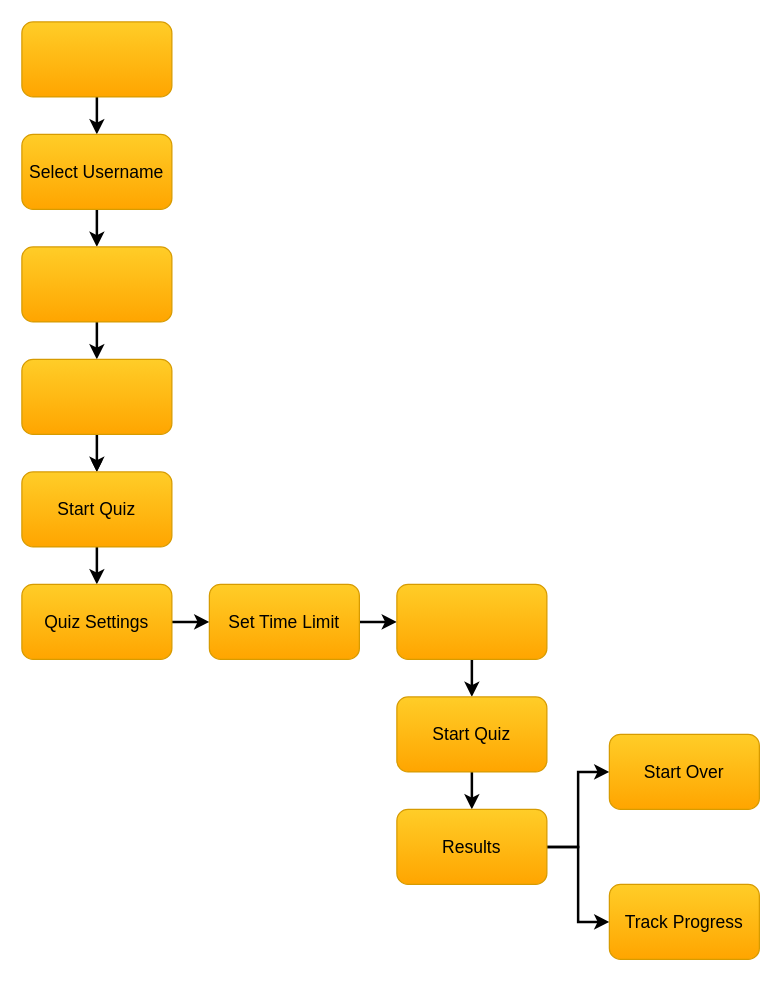
Some shapes in this 781 by 981 pixel diagram are drawn without their labels. The shapes that lost their labels are listed below. From the top down, each one's centre as x and y in pixels, then its label:
At (x=96, y=59): "Login Page".
At (x=96, y=284): "Welcome Page".
At (x=96, y=396): "Select Desired Topic Heading".
At (x=471, y=621): "Enable/Disable Case Sensitive".
